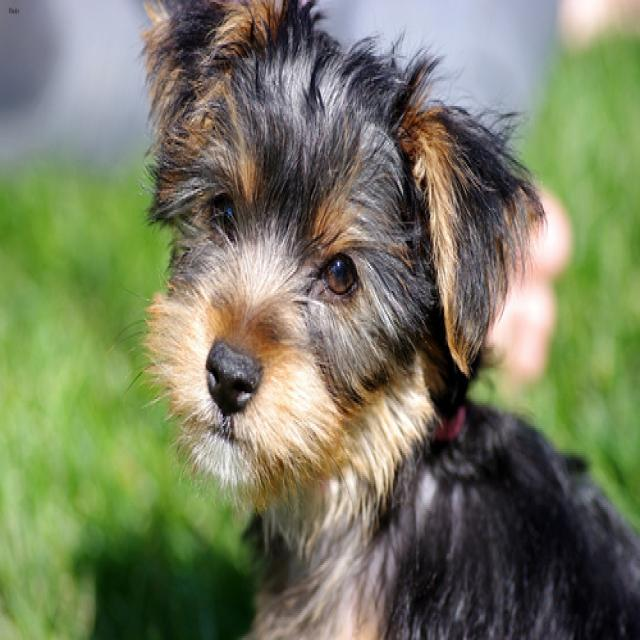dog-yorkshire_terrier: (114, 2, 637, 636)
